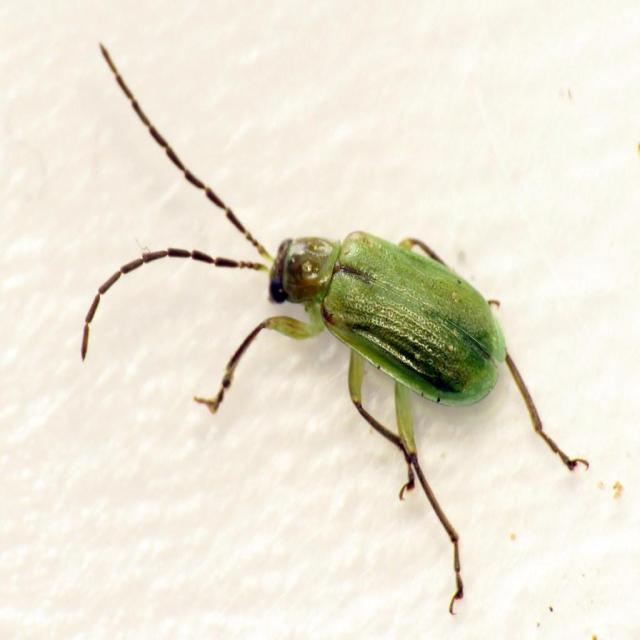gusano_gris: (84, 44, 590, 620)
